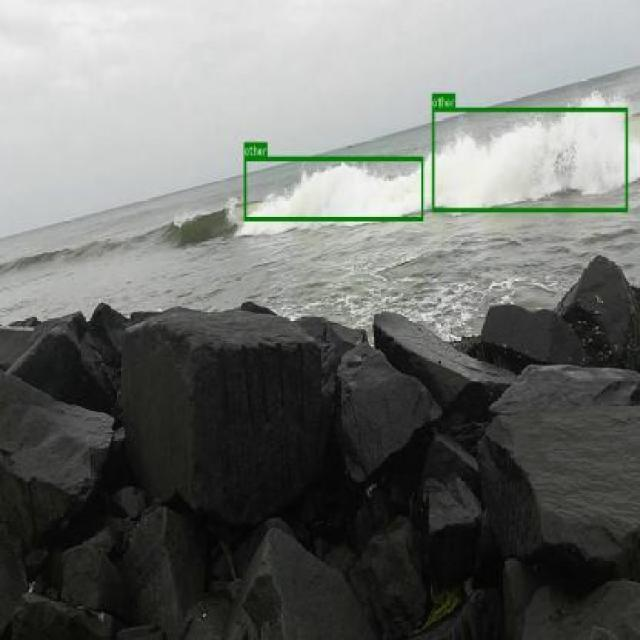other: (430, 106, 628, 212), (243, 156, 423, 221)
